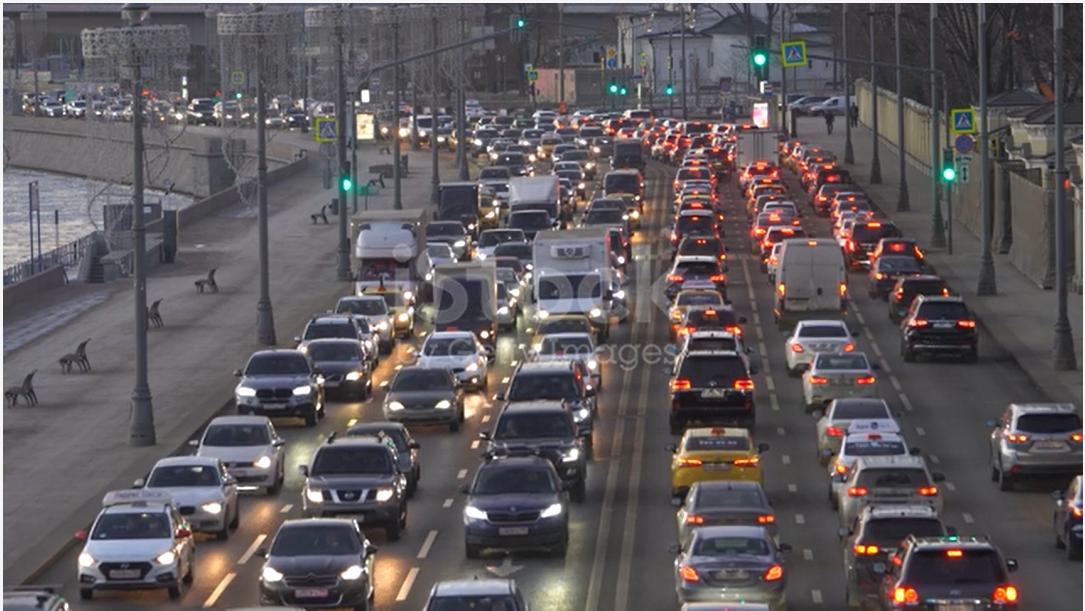car: (454, 448, 588, 569), (640, 525, 807, 611), (78, 498, 206, 607), (249, 513, 384, 611), (289, 433, 411, 538), (888, 522, 1029, 609), (478, 395, 594, 487), (975, 399, 1084, 484), (662, 475, 785, 549), (230, 344, 339, 426), (143, 448, 249, 531), (832, 455, 952, 527), (848, 505, 940, 596), (767, 230, 856, 323), (662, 423, 765, 497), (664, 349, 756, 429), (199, 403, 281, 492), (899, 290, 986, 371), (379, 363, 476, 434), (810, 403, 908, 462), (498, 358, 602, 413), (785, 309, 864, 381), (797, 358, 886, 411), (339, 294, 417, 351), (306, 335, 368, 406), (413, 328, 491, 384), (827, 435, 925, 477), (839, 218, 903, 271), (673, 303, 745, 346), (664, 254, 731, 296), (890, 268, 953, 311), (602, 167, 654, 219), (869, 253, 919, 303), (673, 208, 723, 248), (671, 237, 731, 265), (749, 208, 783, 251), (602, 195, 646, 222)
truck: (518, 225, 615, 349), (340, 208, 428, 319), (507, 175, 561, 253)
